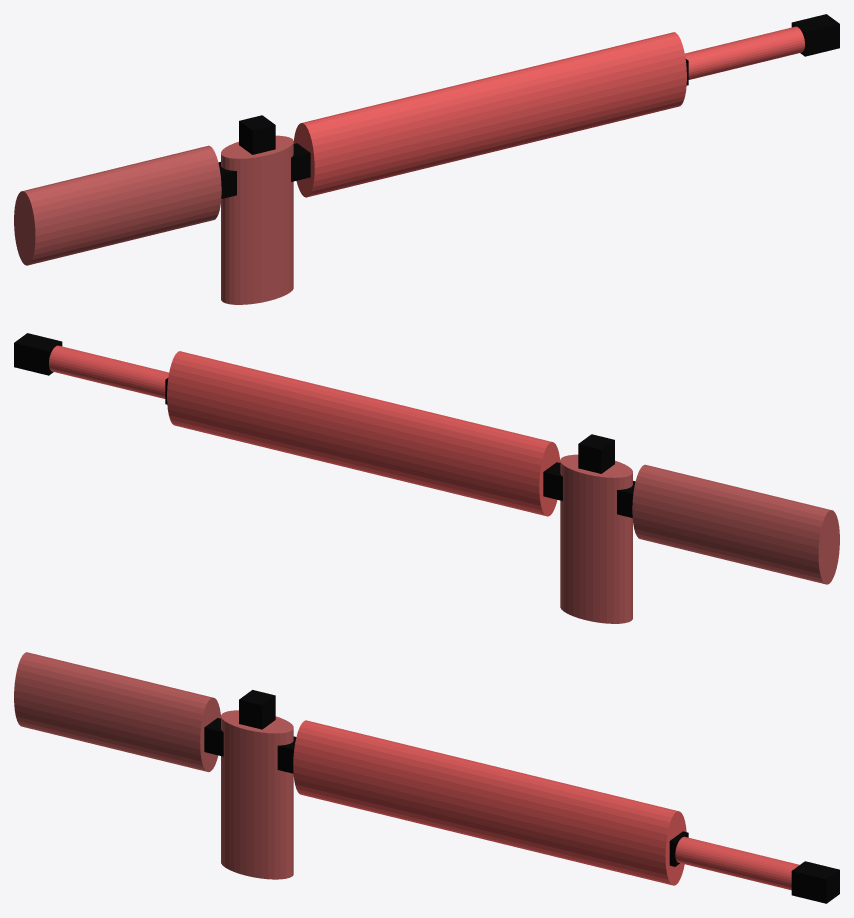
The model's file is red.glb.
3 renders of one model, top to bottom at view 1: azimuth 30°, elevation 25°; view 2: azimuth 150°, elevation 25°; view 3: azimuth 330°, elevation 25°, orthographic.
Parts seen in each view (by area): view 1: MainBody, Stock, Handle, Barrel, Connector2, HandleConnector, Connector3; view 2: MainBody, Stock, Handle, Barrel, Connector2, HandleConnector, Connector3; view 3: MainBody, Stock, Handle, Barrel, Connector2, HandleConnector, StockConnector, Connector3.
Part boxes in pixels (<box>): MainBody: <box>293,32,686,197</box>; Stock: <box>14,145,221,265</box>; Handle: <box>221,135,293,304</box>; Barrel: <box>685,26,804,79</box>; Connector2: <box>791,14,839,56</box>; HandleConnector: <box>239,115,275,154</box>; Connector3: <box>291,143,310,181</box>; MainBody: <box>167,351,560,516</box>; Stock: <box>632,464,839,584</box>; Handle: <box>560,454,632,623</box>; Barrel: <box>49,345,168,398</box>; Connector2: <box>14,333,62,375</box>; HandleConnector: <box>578,434,614,473</box>; Connector3: <box>543,462,562,500</box>; MainBody: <box>293,720,686,885</box>; Stock: <box>14,652,220,772</box>; Handle: <box>221,710,293,879</box>; Barrel: <box>675,836,799,890</box>; Connector2: <box>791,861,839,903</box>; HandleConnector: <box>239,690,275,729</box>; StockConnector: <box>204,718,223,756</box>; Connector3: <box>277,736,296,773</box>.
Bounding box in the file's own units: 3.48 × 0.7 × 0.16.
